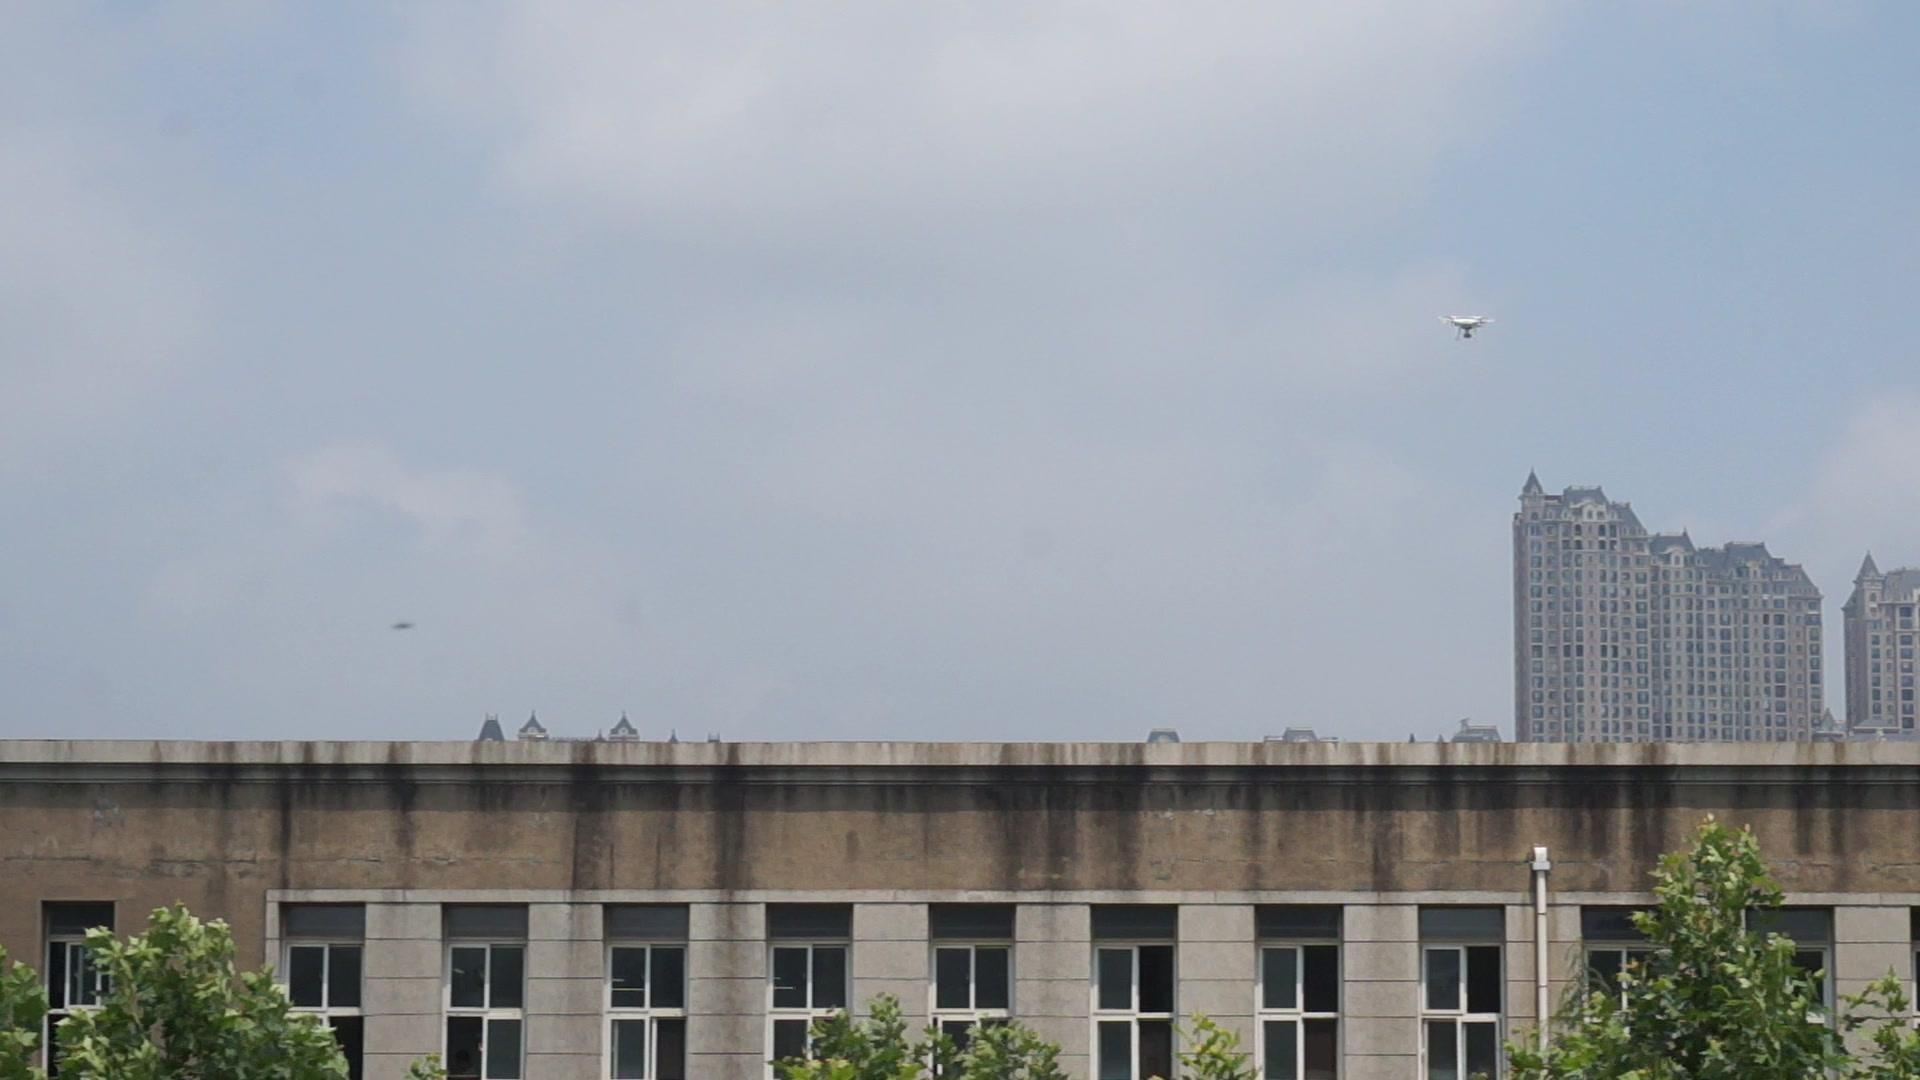UAV: (1439, 315, 1497, 342)
